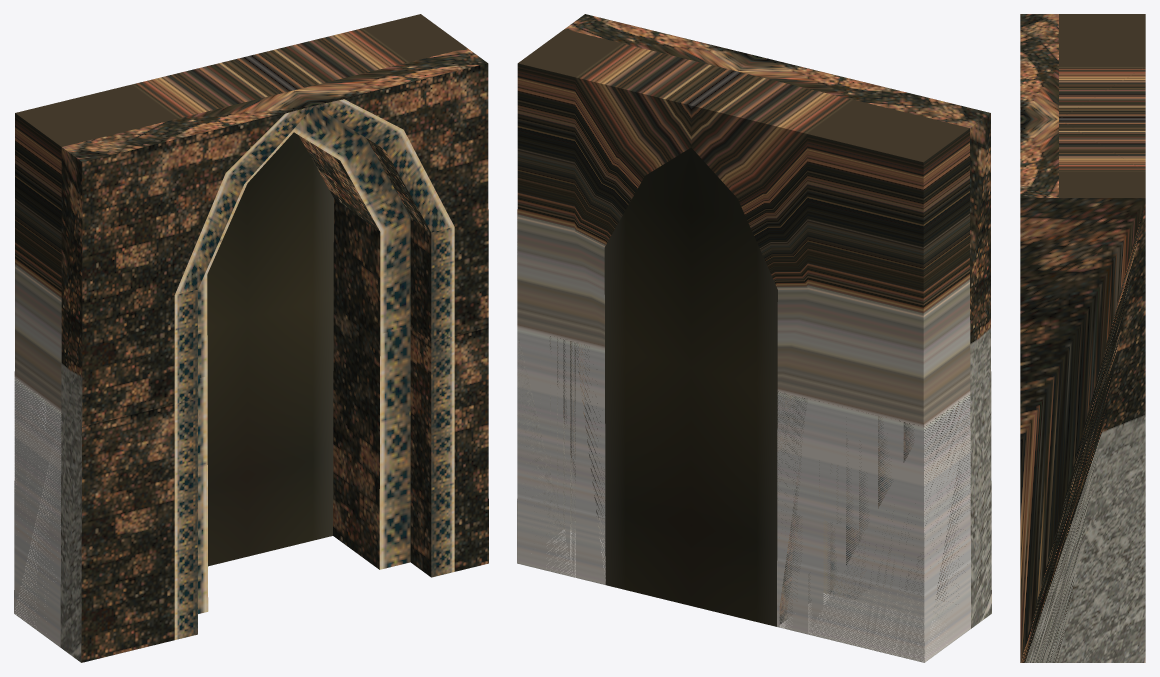
File: Mesh_ModuleBG_arche_3.fbx
3 views of the same model, side by side, from view 1: azimuth 30°, elevation 25°; view 2: azimuth 150°, elevation 25°; view 3: azimuth 270°, elevation 25° (orthographic). The views are drawn at different scales.
Parts seen in each view (by area): view 1: Mesh_ModuleBG_arche_3; view 2: Mesh_ModuleBG_arche_3; view 3: Mesh_ModuleBG_arche_3.
Part boxes in pixels (x1,y1,x2,y2): Mesh_ModuleBG_arche_3: (14, 14, 488, 662); Mesh_ModuleBG_arche_3: (517, 14, 991, 662); Mesh_ModuleBG_arche_3: (1020, 14, 1145, 662).
Bounding box in the file's own units: 349 × 410 × 100.
